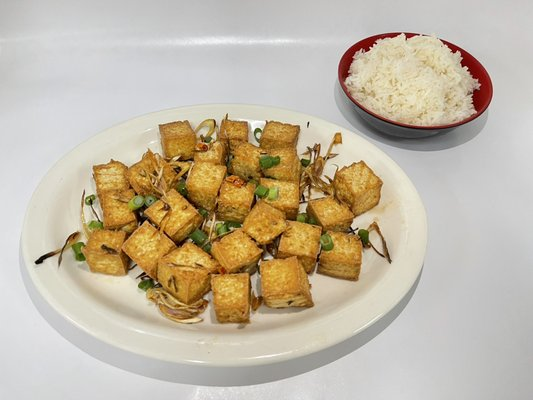soup: (259, 256, 315, 309)
sushi: (335, 32, 494, 150)
